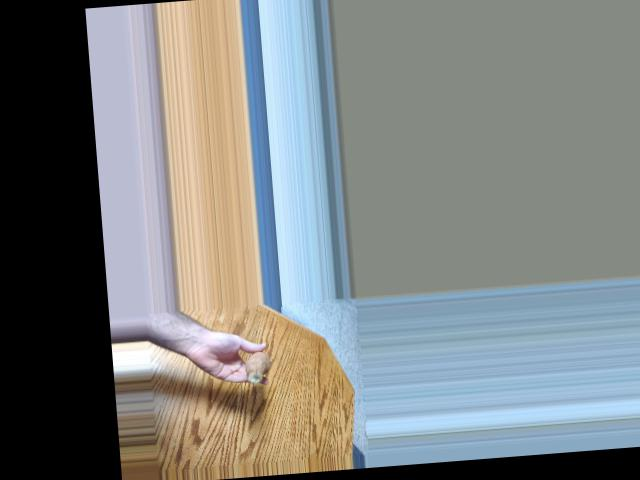sweet_potato: (244, 346, 282, 384)
